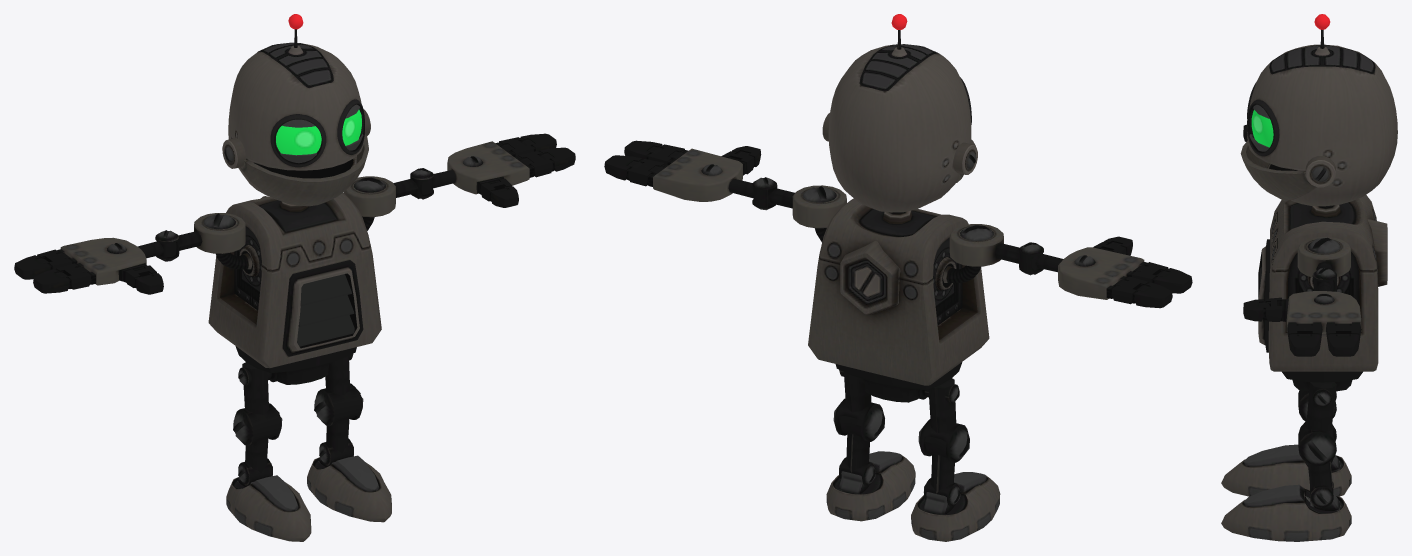
File: robot2.glb
3 views of the same model, side by side, from view 1: azimuth 30°, elevation 25°; view 2: azimuth 150°, elevation 25°; view 3: azimuth 270°, elevation 25° (orthographic). The views are drawn at different scales.
Visible parts, largest first — view 1: Body_0, Body_1; view 2: Body_0; view 3: Body_0, Body_1.
Boxes of the visible parts, x1,y1,x2,y2 form: Body_0: (14, 29, 575, 541); Body_1: (276, 14, 361, 155); Body_0: (604, 30, 1192, 541); Body_0: (1221, 29, 1397, 541); Body_1: (1251, 14, 1330, 147).
Bounding box in the file's own units: 16.85 × 14.53 × 4.72.
Materials: 2 (2 with a texture image).
